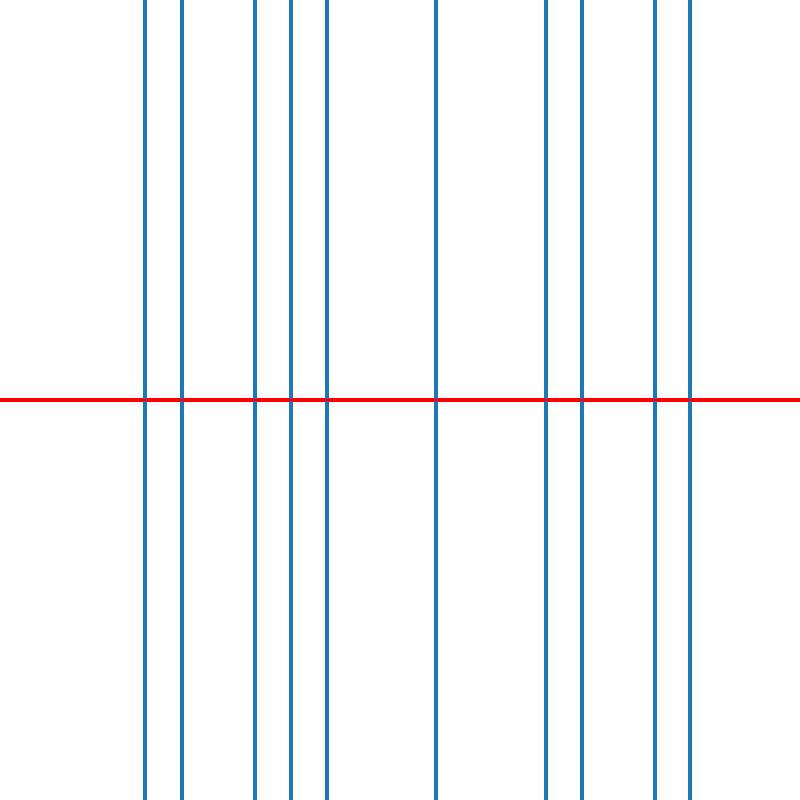root: (541, 396, 549, 404), (141, 396, 149, 404), (250, 396, 258, 404), (432, 396, 440, 404), (650, 396, 658, 404), (687, 396, 694, 404), (323, 396, 330, 404), (178, 396, 185, 404), (578, 396, 585, 404), (287, 396, 294, 404)
